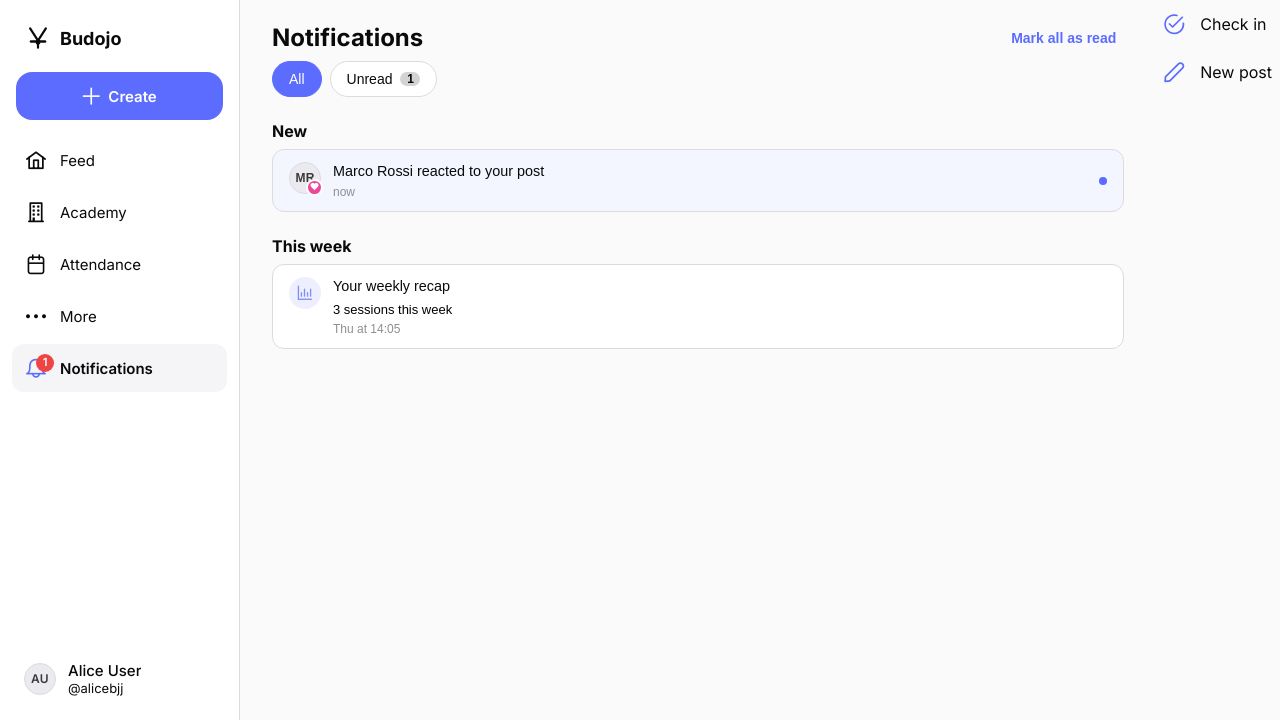
Test: Notifications page (#1129) › filters to unread only
The image size is (1280, 720).
Click the tab with test id "notifications-filter-unread" at point(384, 79), box 330,61 -> 438,97
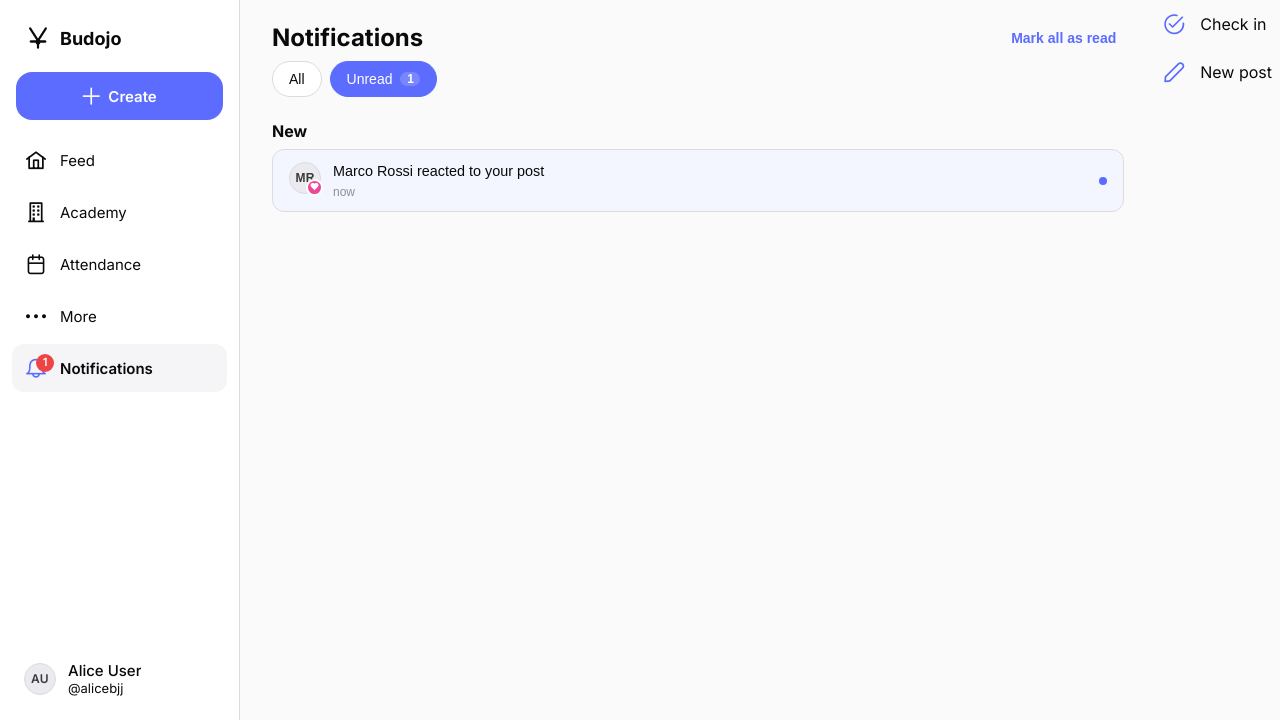
Check: the button with test id "notification-1" is shown, box 273,150 -> 1123,211
Check: the button with test id "notification-2" is gone
